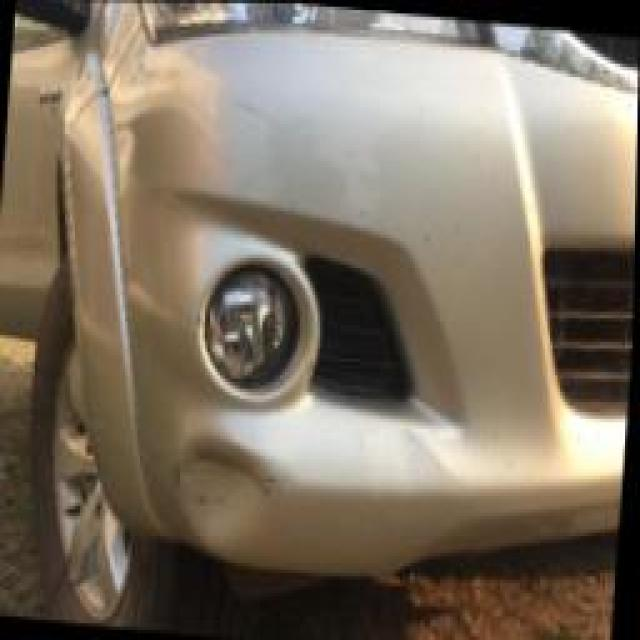Bumper: (85, 379, 544, 590)
